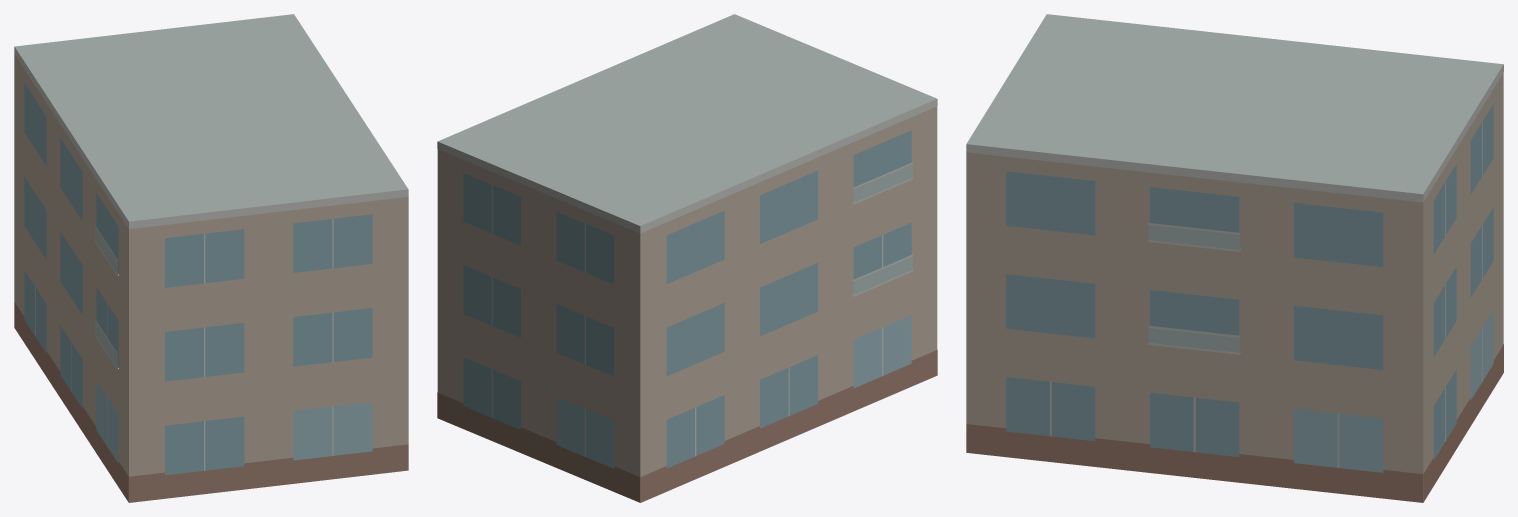
The model's file is survey-upis-32809967.glb.
3 views of the same model, side by side, from view 1: azimuth 30°, elevation 25°; view 2: azimuth 150°, elevation 25°; view 3: azimuth 270°, elevation 25° (orthographic). The views are drawn at different scales.
Visible parts, largest first — view 1: survey-upis-32809967.tmp; view 2: survey-upis-32809967.tmp; view 3: survey-upis-32809967.tmp.
Boxes of the visible parts, x1=… form: survey-upis-32809967.tmp: x1=14, y1=14, x2=408, y2=502; survey-upis-32809967.tmp: x1=437, y1=14, x2=937, y2=502; survey-upis-32809967.tmp: x1=966, y1=14, x2=1503, y2=502.
Bounding box in the file's own units: 11.47 × 9.15 × 14.45.
